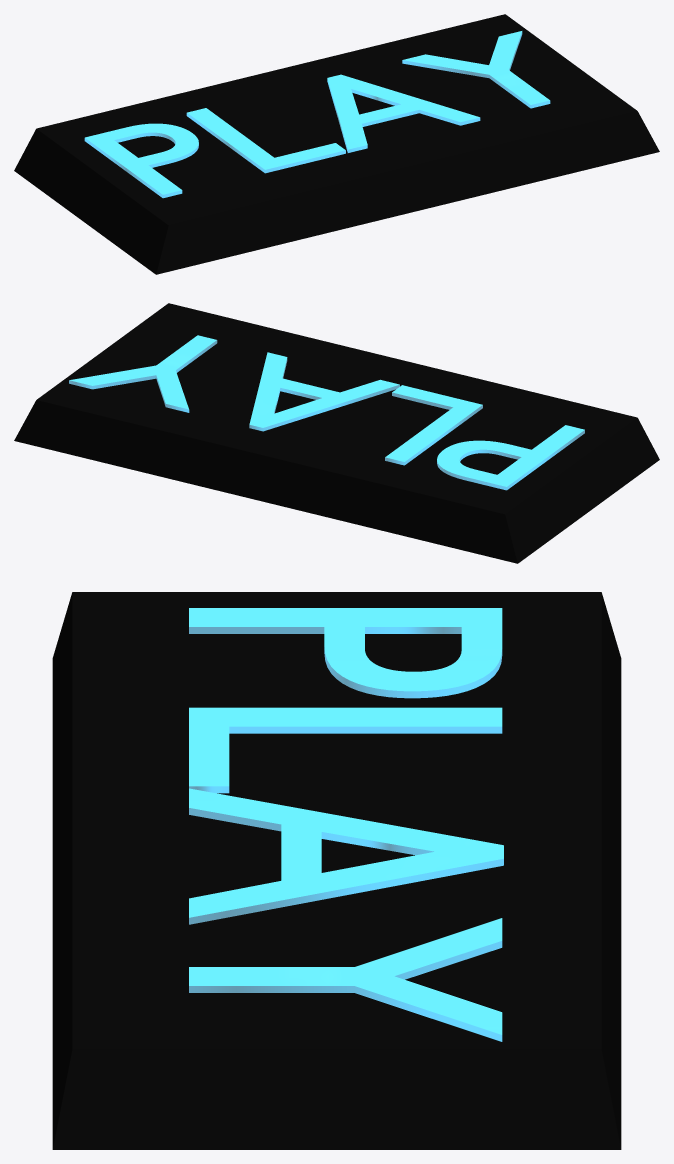
Rendered from MurderPlayButton8.fbx.
3 views of the same model, one above another, from view 1: azimuth 30°, elevation 25°; view 2: azimuth 150°, elevation 25°; view 3: azimuth 270°, elevation 25° (orthographic). The views are drawn at different scales.
Visible parts, largest first — view 1: Cube; view 2: Cube; view 3: Cube.
Part boxes in pixels (box(x1,y1,x2,y2)): Cube: box(14, 14, 659, 274); Cube: box(14, 303, 659, 563); Cube: box(52, 592, 621, 1149).
Bounding box in the file's own units: 253 × 21.66 × 124.
1 material, 1 textured.
